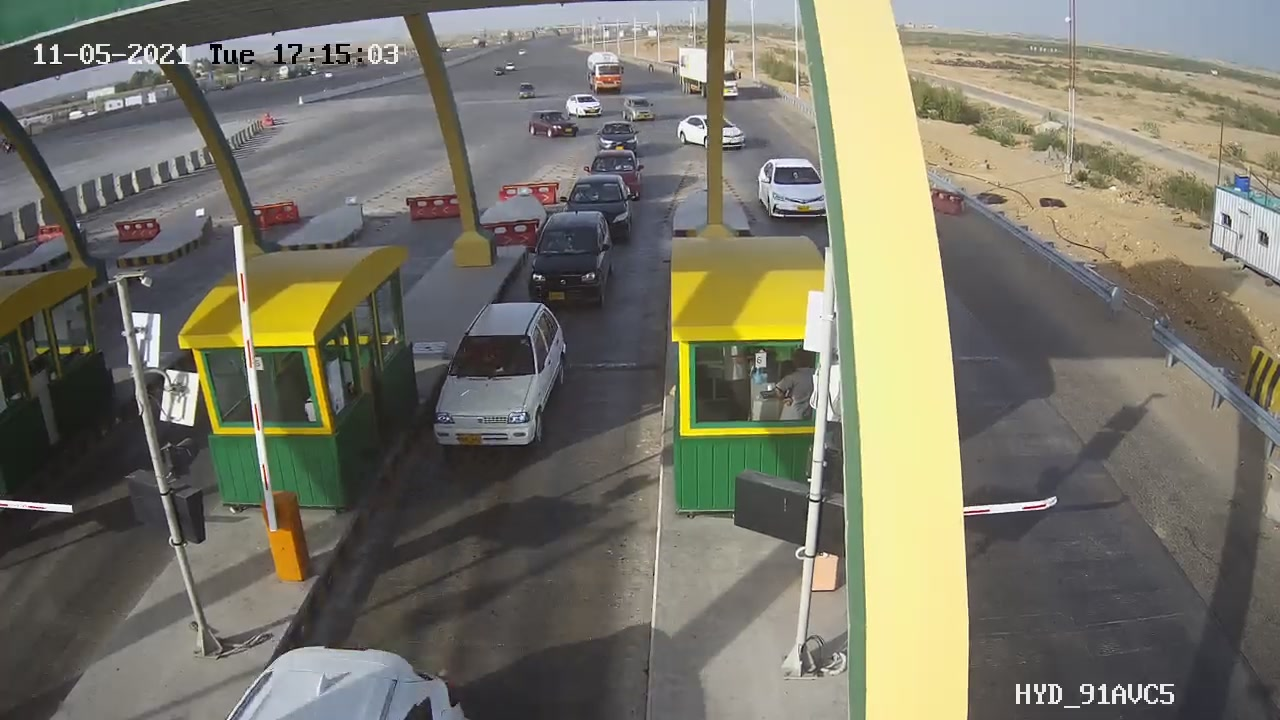F1: (424, 286, 589, 472), (514, 200, 625, 317)
